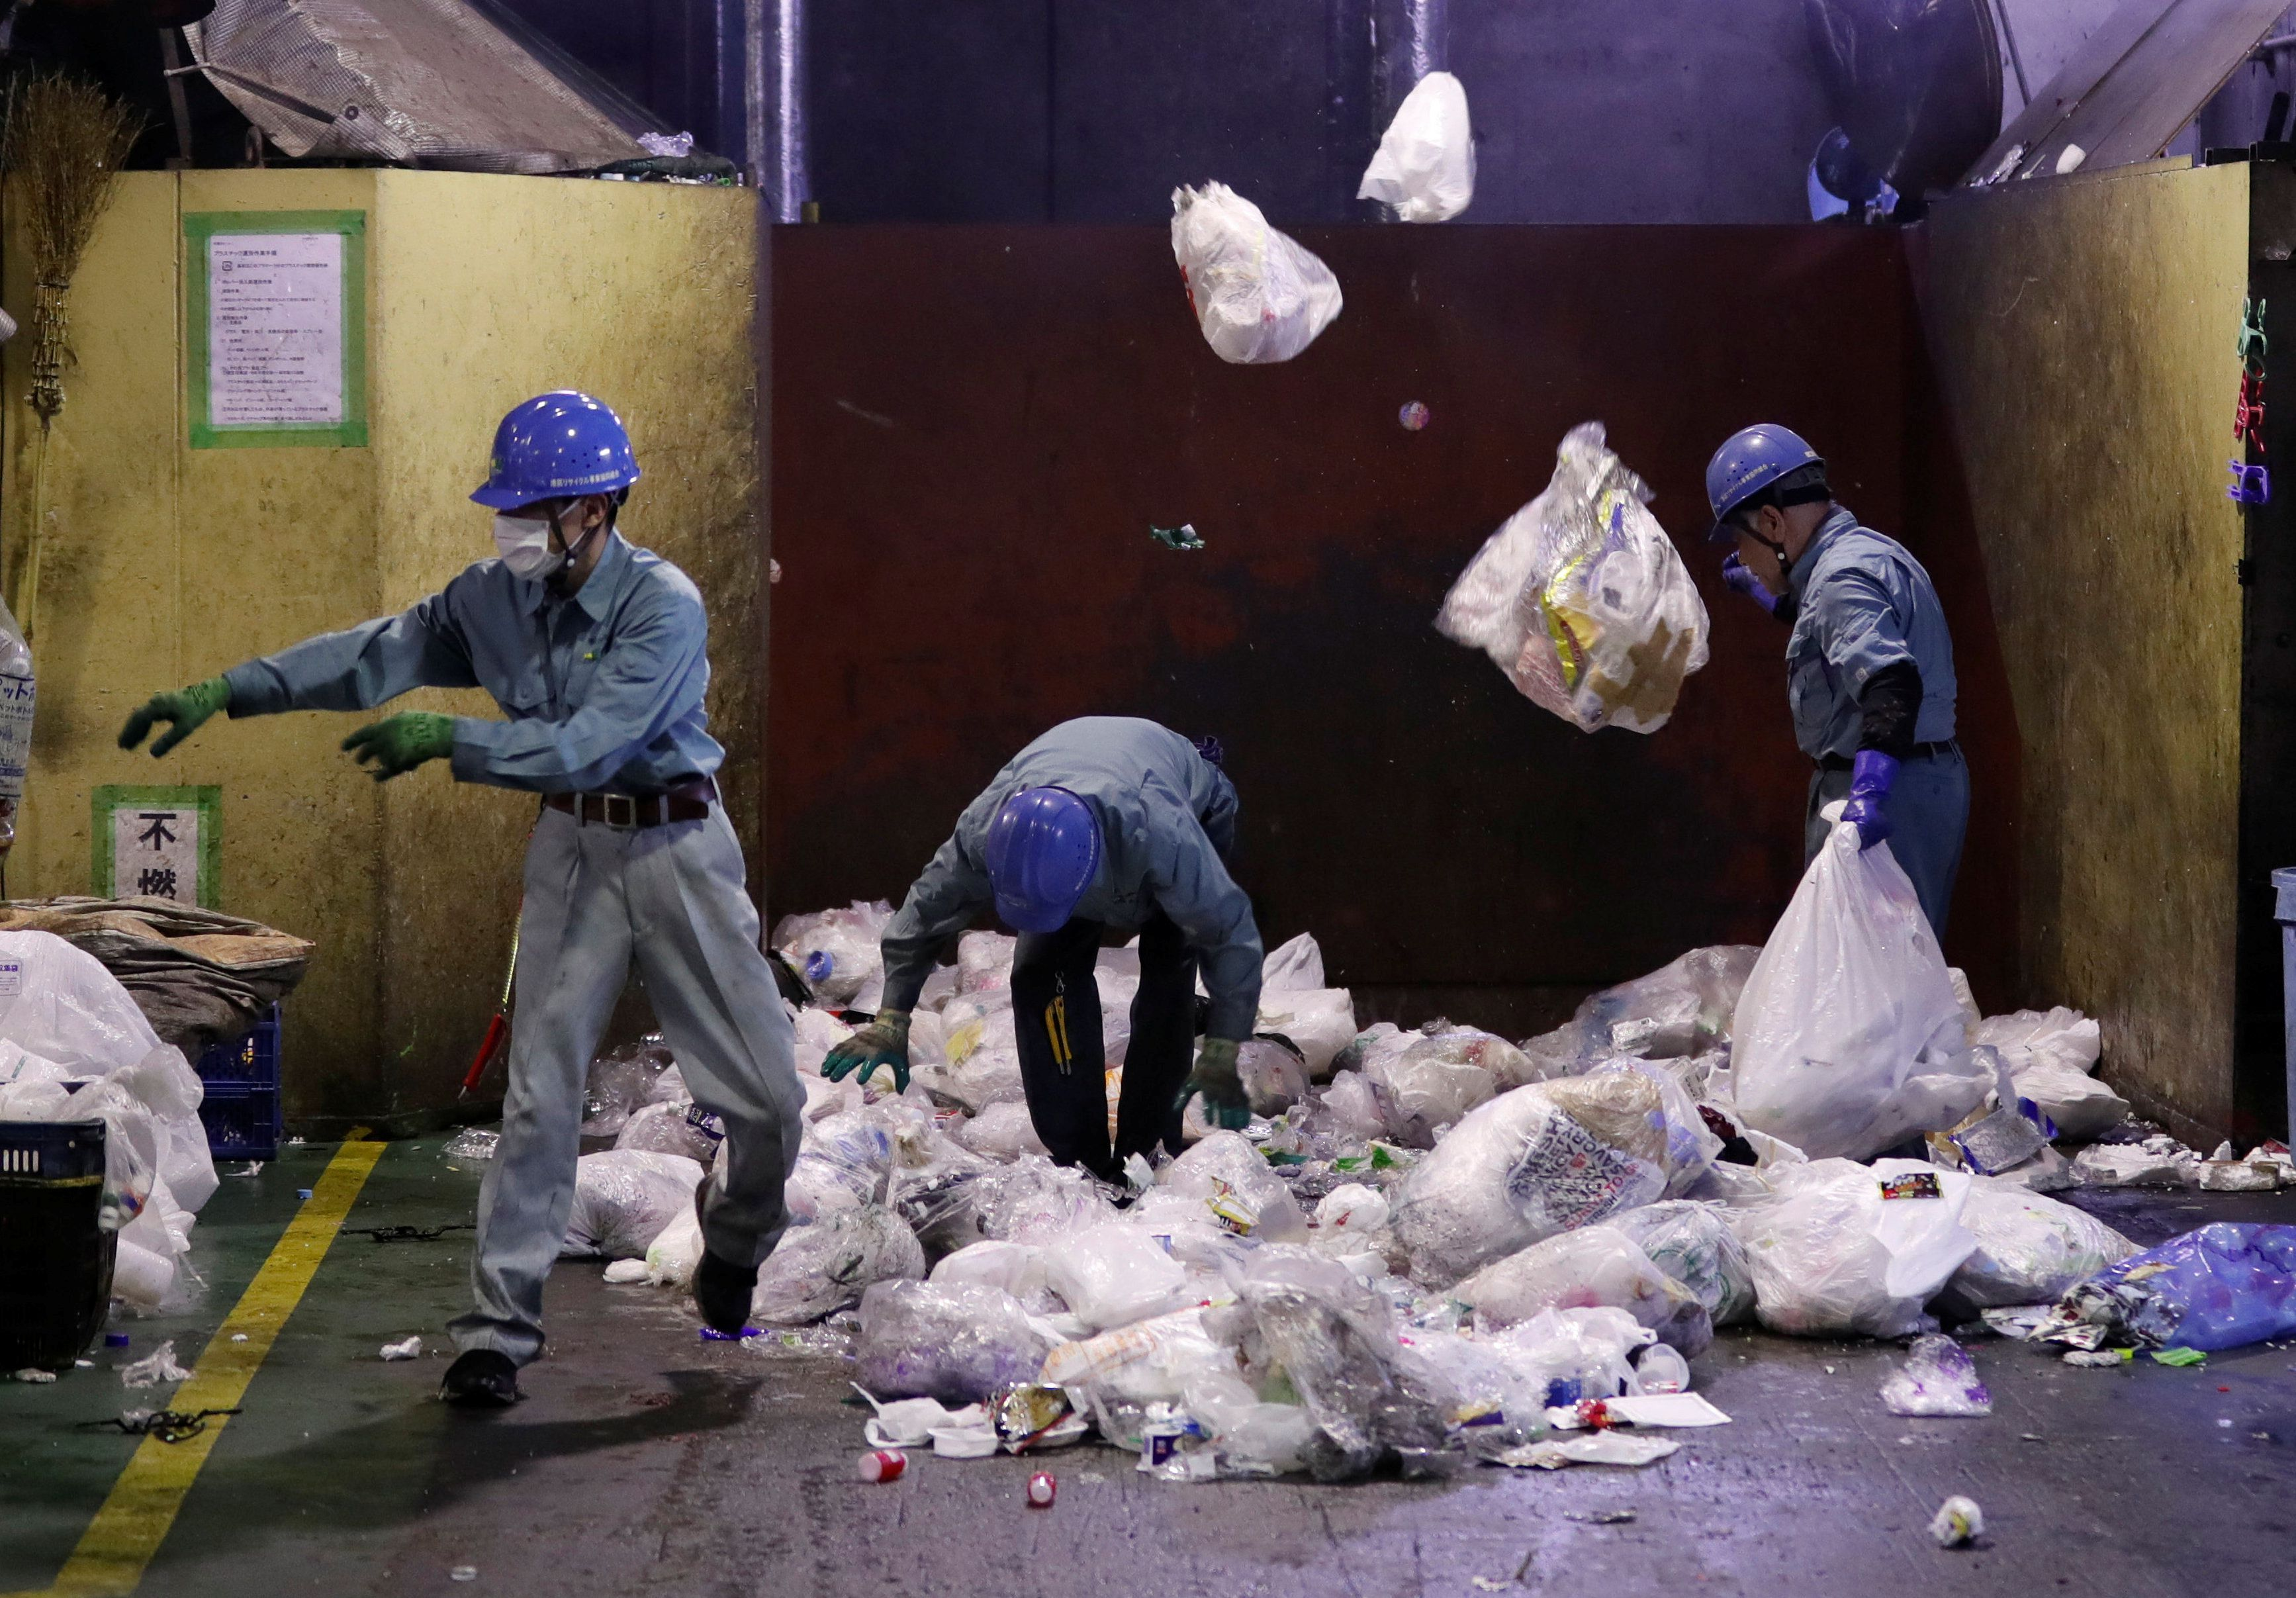plastic_bagwdw: (1049, 1275, 1858, 1598), (827, 1172, 1438, 1588), (1610, 1041, 2186, 1415), (10, 799, 277, 1518), (1694, 714, 2080, 1211), (1347, 316, 1717, 766), (689, 986, 1033, 1431), (1186, 862, 1542, 1268), (1459, 853, 1860, 1200), (1291, 16, 1687, 352), (1049, 120, 1380, 515), (415, 1001, 754, 1366), (1434, 1151, 1856, 1439), (1354, 1054, 1823, 1305), (1959, 846, 2209, 1270), (2043, 1068, 2296, 1418), (736, 918, 989, 1221), (1324, 925, 1630, 1150), (926, 806, 1125, 1136), (785, 766, 965, 1096), (888, 1169, 1158, 1382)
